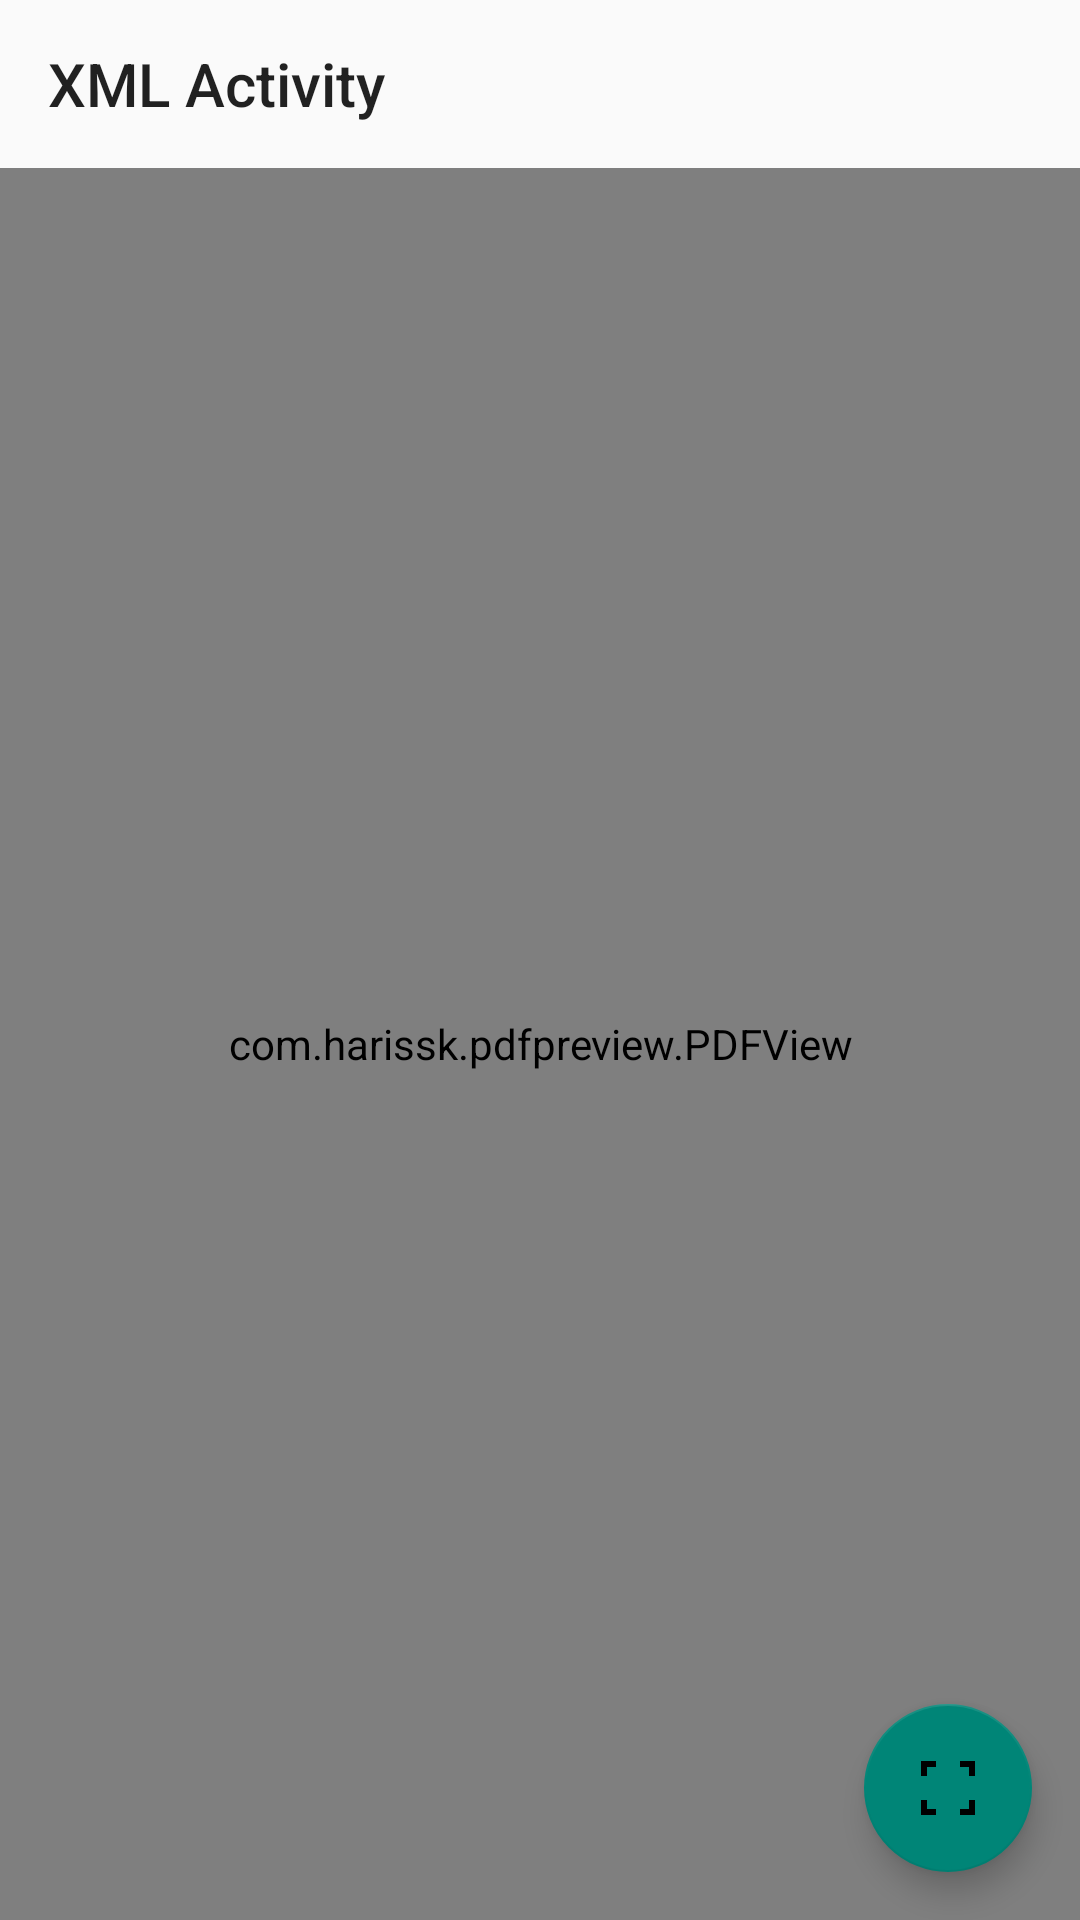

Named icons in this screenshot (1080px x 1920px) and their centers, (x=x, y=y):
fullscreen: (x=948, y=1788)
